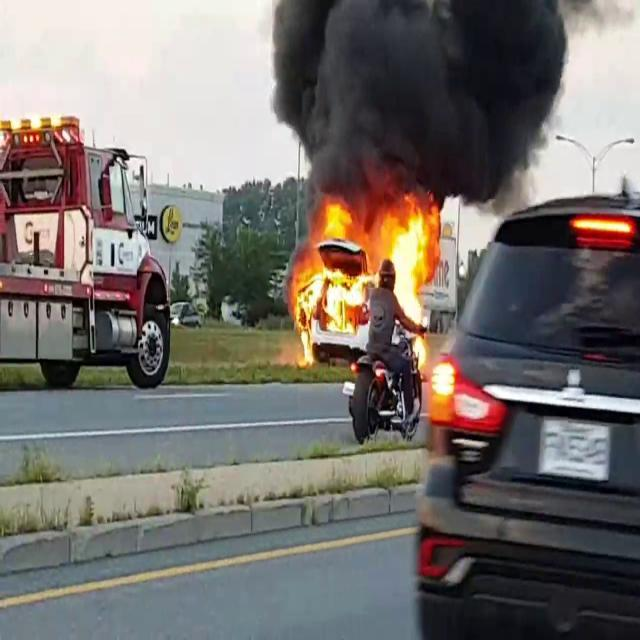Fire: (288, 193, 443, 359), (426, 357, 460, 407)
Smoke: (258, 0, 578, 204)
